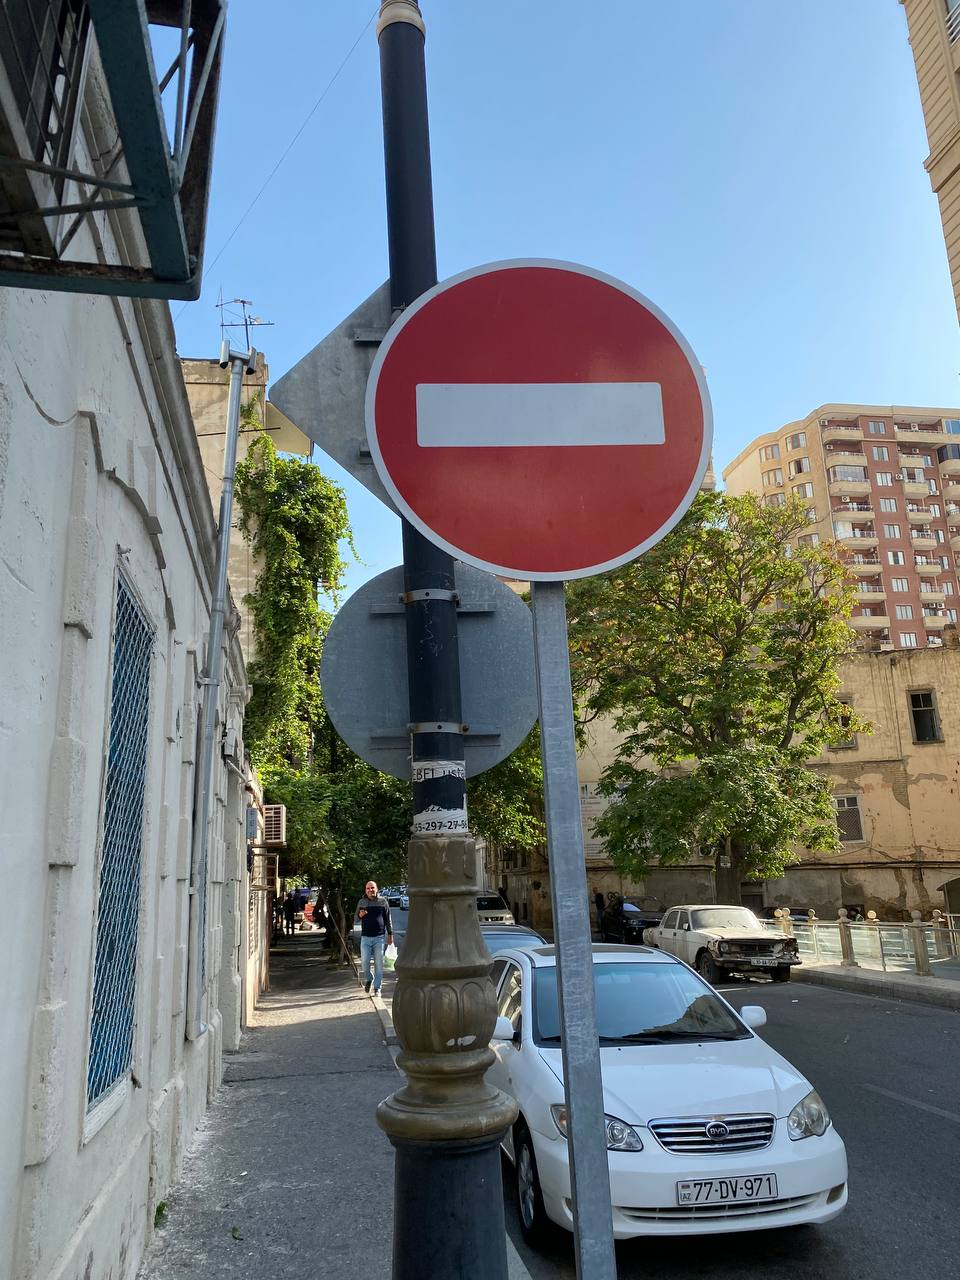No Entry: (365, 256, 713, 583)
